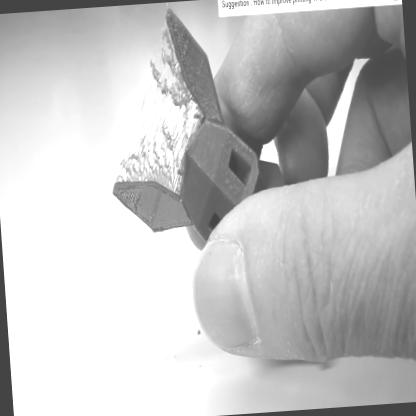fail: (115, 30, 186, 184)
